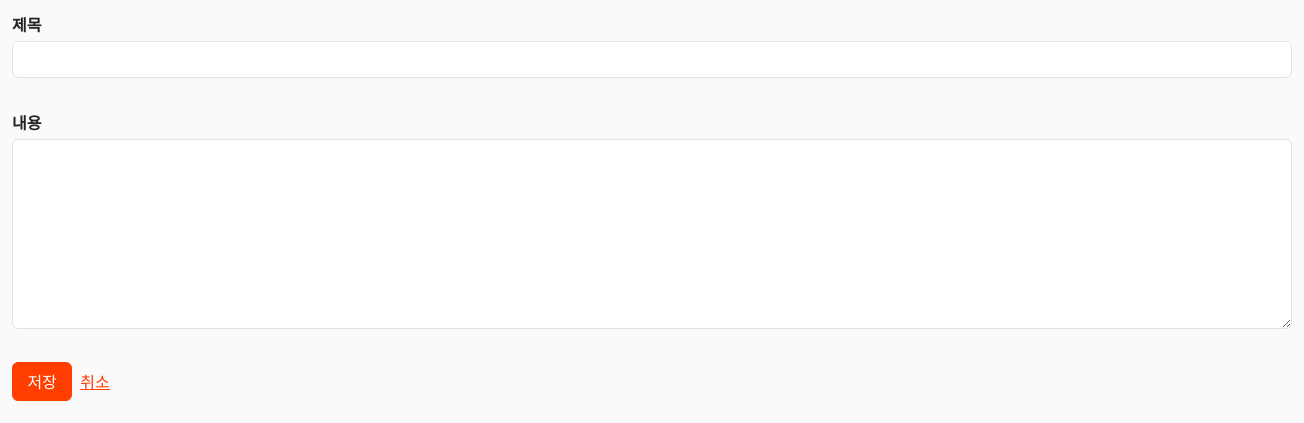
PostForm › 입력칸을 벗어나기 전에는 오류를 숨기고, 벗어나면 보여 준다
Type "a" into the field labelled "제목" at (652, 59), box [12, 41, 1292, 78]
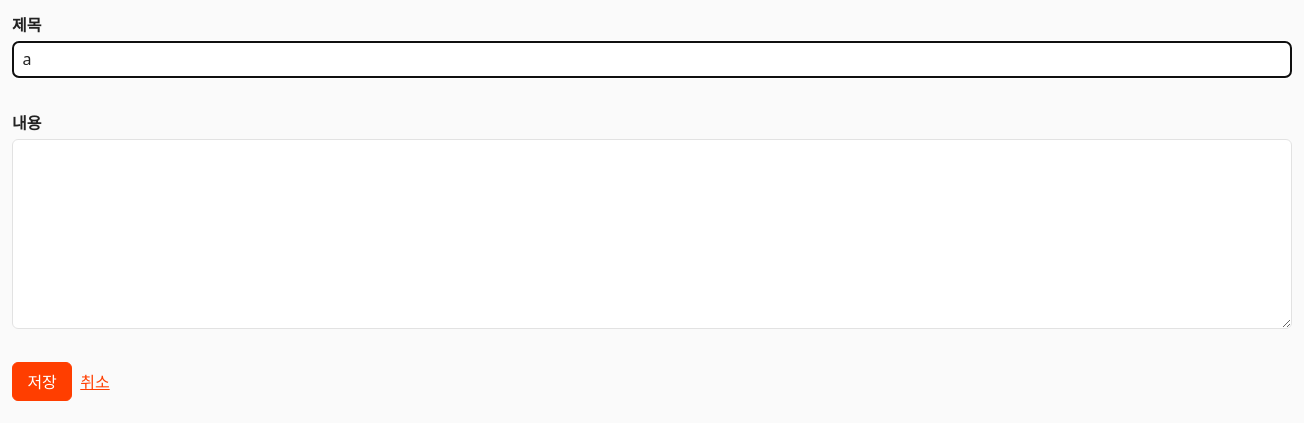
Expected: the text "제목은 2자 이상 입력하세요." is not shown
Press Tab
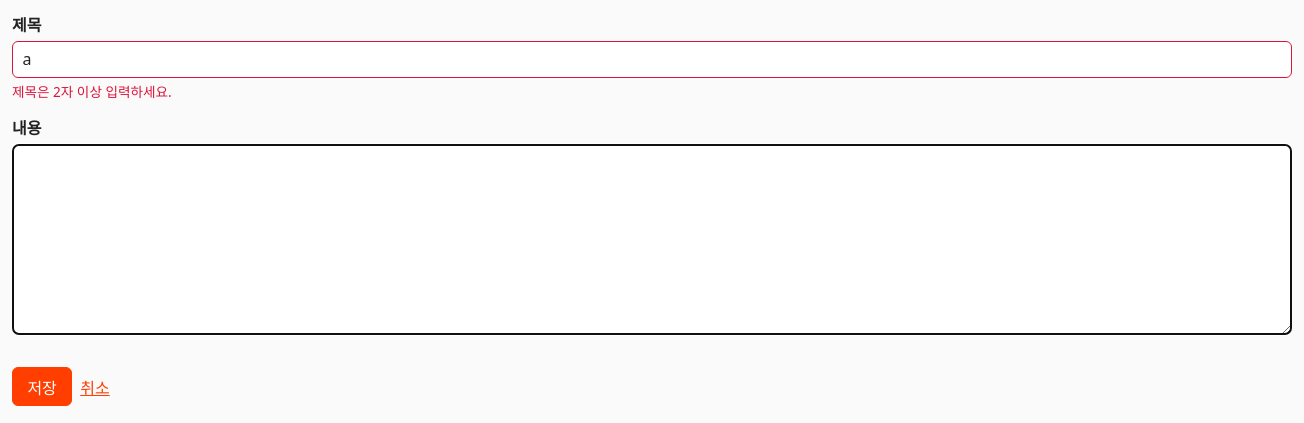
Expected: the text "제목은 2자 이상 입력하세요." is shown, [12, 82, 172, 101]
Type "b" into the field labelled "제목" at (652, 59), box [12, 41, 1292, 78]
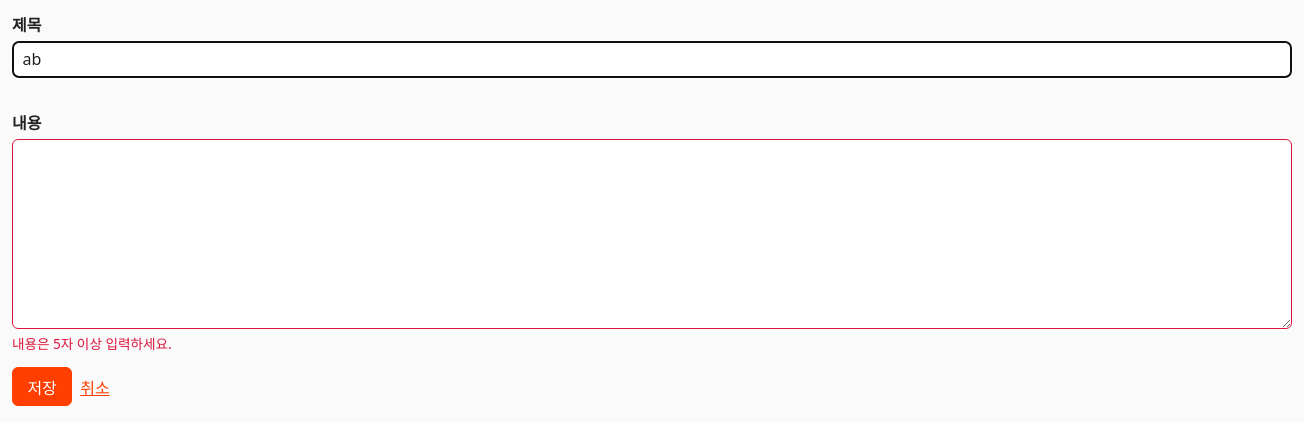
Expected: the text "제목은 2자 이상 입력하세요." is gone
